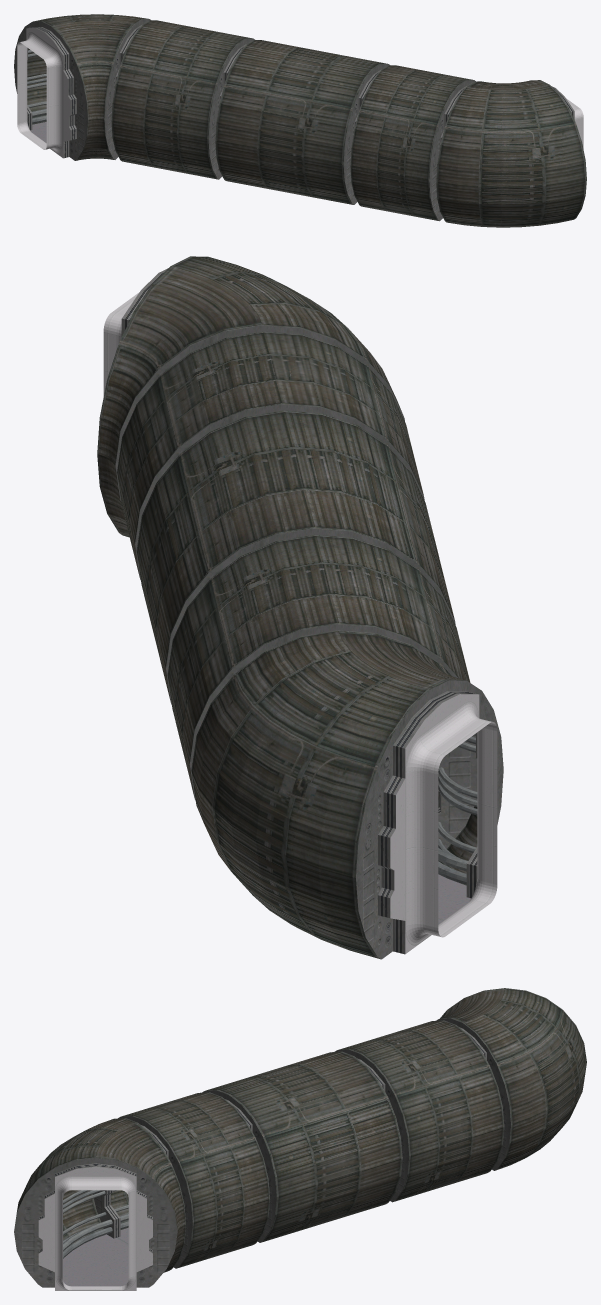
File: thm_spc_corvette_dungeon_r16_hall16_mesh_r16.fbx
The picture shows the model from 3 angles, top to bottom: view 1: azimuth 30°, elevation 25°; view 2: azimuth 150°, elevation 25°; view 3: azimuth 270°, elevation 25°; orthographic projection. The views are drawn at different scales.
Visible parts, largest first — view 1: mesh_node; view 2: mesh_node; view 3: mesh_node.
Boxes of the visible parts, x1,y1,x2,y2 form: mesh_node: (14,14,586,227); mesh_node: (97,256,503,959); mesh_node: (14,988,586,1290).
Bounding box in the file's own units: 11 × 3.5 × 14.
